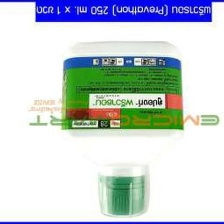insecticide: (58, 38, 187, 220)
